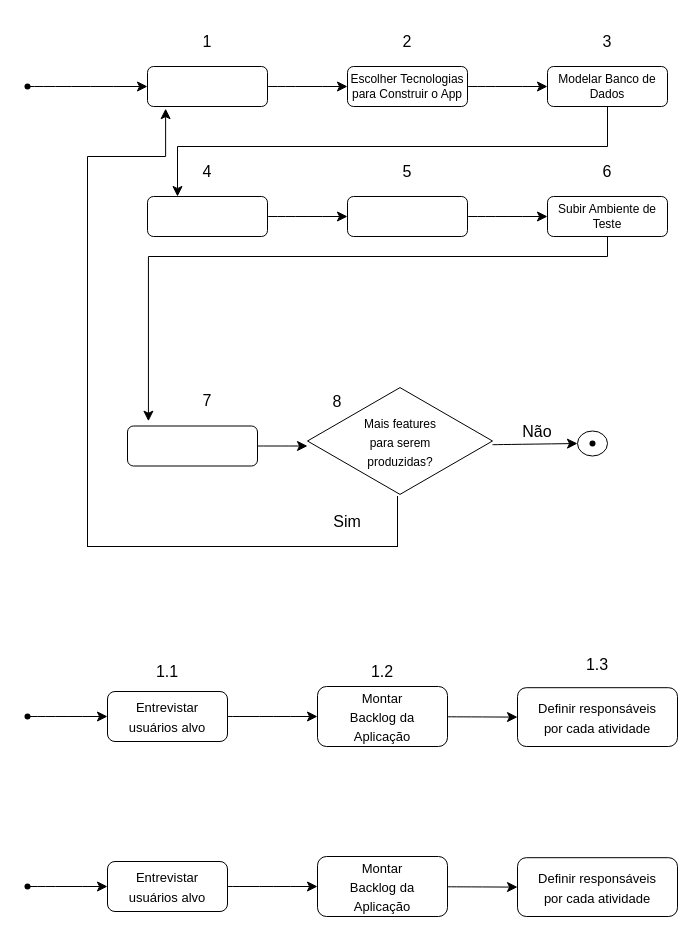
Image size: 695x934. Some labels were removed from this diagram. The shapes that lost their labels are listed below. From the top down, each one's centre as x and y in pixels, then its label:
the point at 207,86: Levantar Requisitos
the point at 207,216: Definir Fluxo de Usuário
the point at 407,216: Subir Ambiente de Implementação
the point at 192,445: Mandar para a Produção
